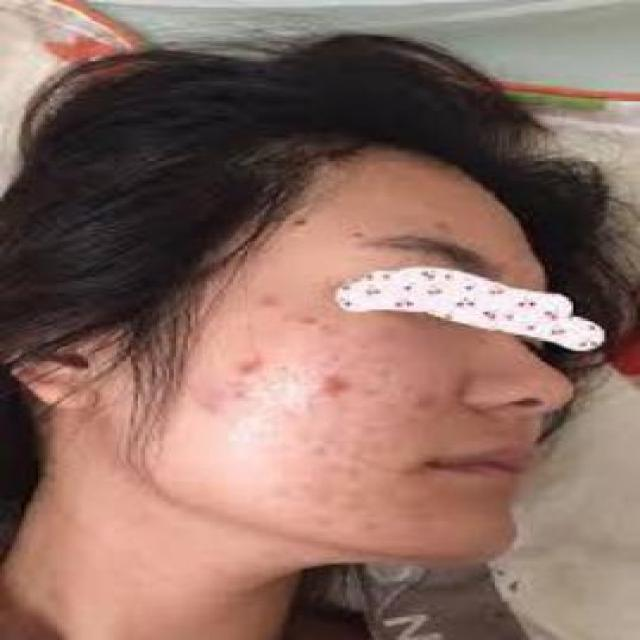Acne: (302, 369, 371, 408), (231, 358, 278, 380), (406, 390, 444, 415), (245, 291, 290, 312)
